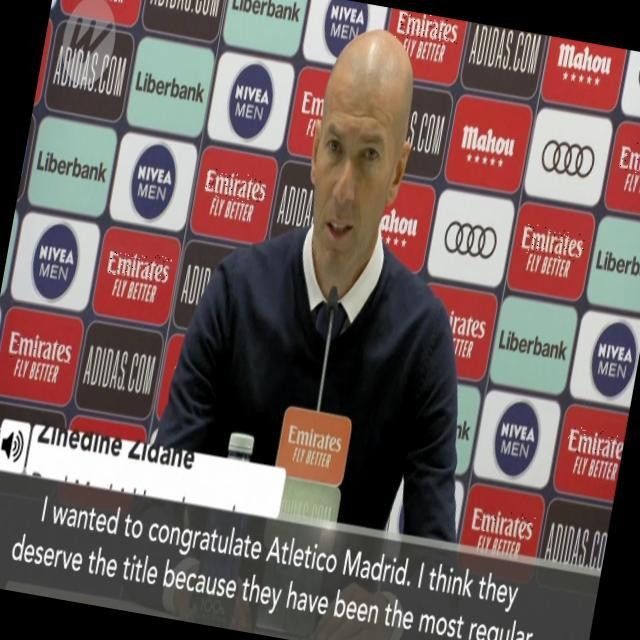Emirates: (104, 246, 172, 286), (519, 222, 586, 262), (470, 504, 537, 544), (6, 329, 74, 367), (202, 168, 268, 206), (395, 9, 461, 47), (565, 424, 625, 462), (617, 139, 640, 180)
